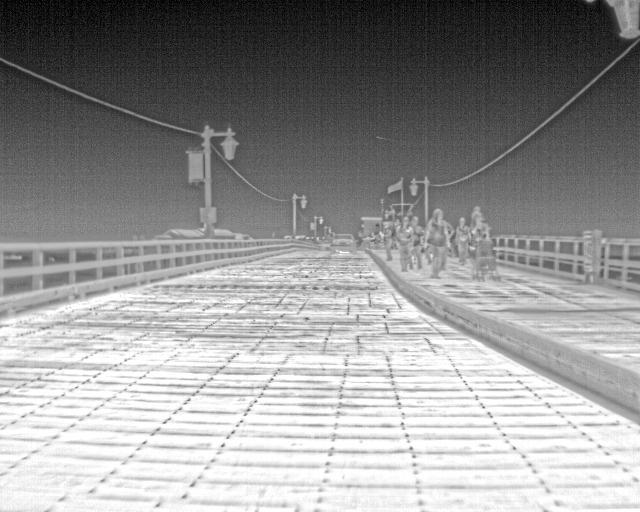bicycle: (331, 233, 357, 254)
empty: (426, 207, 452, 272), (404, 214, 425, 270), (453, 216, 472, 265), (380, 220, 395, 259), (469, 214, 489, 240)
